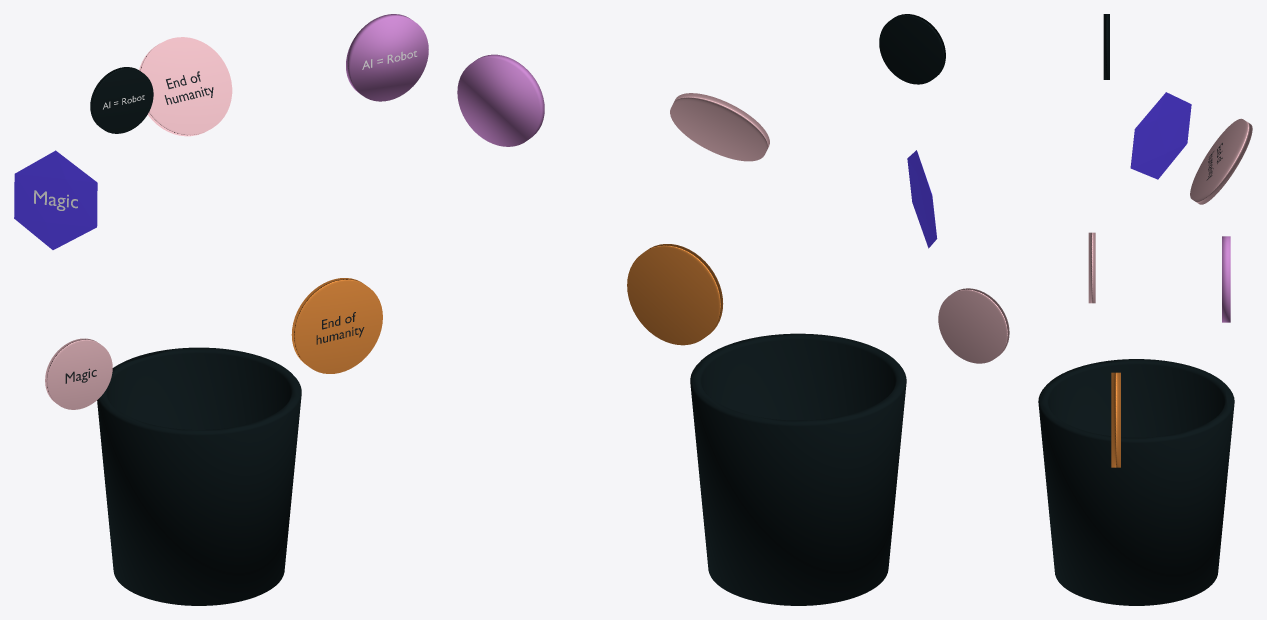
3 renders of one model, left to right at view 1: azimuth 30°, elevation 25°; view 2: azimuth 150°, elevation 25°; view 3: azimuth 270°, elevation 25°, orthographic. The views are drawn at different scales.
Visible parts, largest first — view 1: Cylinder, Cylinder.001, Cylinder.003, Icosphere, Text.002, Cylinder.002, Cylinder.005; view 2: Cylinder, Cylinder.003, Text.002, Cylinder.001, Cylinder.002, Cylinder.005, Icosphere; view 3: Cylinder, Icosphere, Cylinder.001, Cylinder.003, Text.002, Cylinder.002, Cylinder.005.
Boxes of the visible parts, bbox=[...] form: Cylinder: bbox=[97, 347, 301, 605]; Cylinder.001: bbox=[139, 37, 232, 136]; Cylinder.003: bbox=[291, 278, 382, 373]; Icosphere: bbox=[14, 150, 97, 249]; Text.002: bbox=[346, 14, 428, 101]; Cylinder.002: bbox=[45, 338, 112, 409]; Cylinder.005: bbox=[90, 67, 153, 133]; Cylinder: bbox=[690, 333, 906, 605]; Cylinder.003: bbox=[627, 244, 723, 345]; Text.002: bbox=[457, 54, 544, 146]; Cylinder.001: bbox=[670, 93, 769, 161]; Cylinder.002: bbox=[938, 288, 1009, 363]; Cylinder.005: bbox=[879, 14, 945, 84]; Icosphere: bbox=[907, 150, 937, 248]; Cylinder: bbox=[1038, 359, 1234, 605]; Icosphere: bbox=[1130, 92, 1191, 179]; Cylinder.001: bbox=[1190, 118, 1252, 204]; Cylinder.003: bbox=[1111, 372, 1120, 467]; Text.002: bbox=[1222, 236, 1230, 322]; Cylinder.002: bbox=[1088, 232, 1095, 303]; Cylinder.005: bbox=[1103, 14, 1109, 79].
Size of the model in its own units: 6.07 by 6.9 by 2.62.
